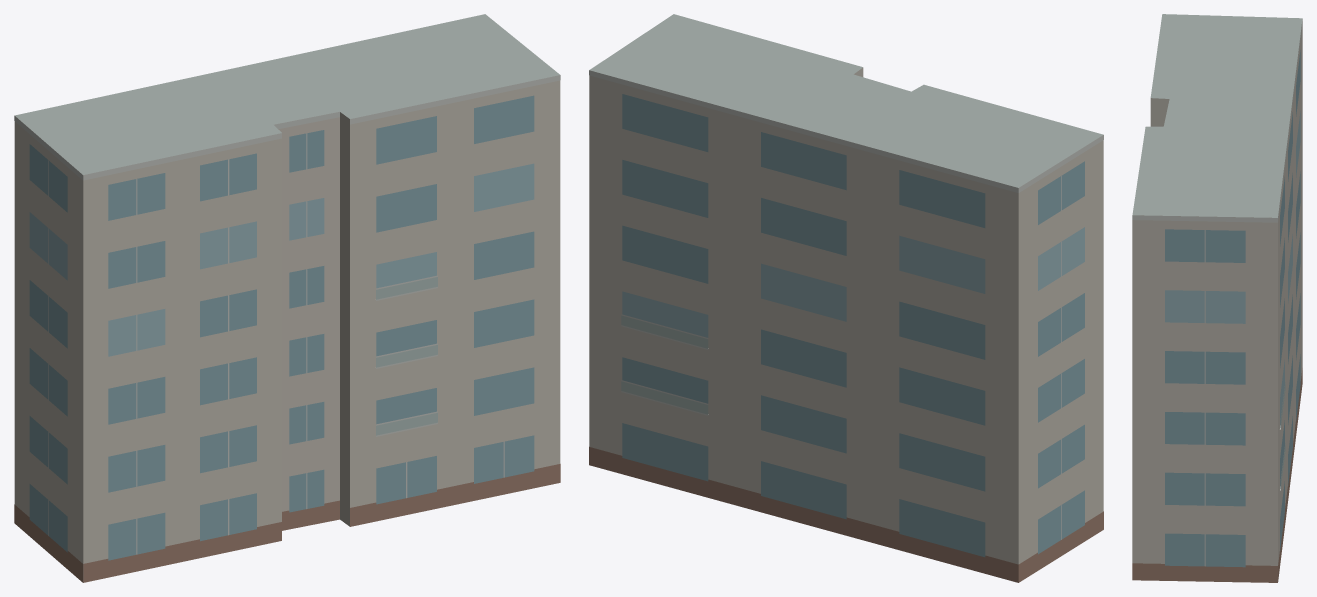
Rendered from survey-upis-32542733.glb.
3 renders of one model, left to right at view 1: azimuth 30°, elevation 25°; view 2: azimuth 150°, elevation 25°; view 3: azimuth 270°, elevation 25°, orthographic. The views are drawn at different scales.
Visible parts, largest first — view 1: survey-upis-32542733.tmp; view 2: survey-upis-32542733.tmp; view 3: survey-upis-32542733.tmp.
Part boxes in pixels (<box>): survey-upis-32542733.tmp: <box>14,14,560,582</box>; survey-upis-32542733.tmp: <box>589,14,1103,582</box>; survey-upis-32542733.tmp: <box>1132,14,1302,582</box>.
Bounding box in the file's own units: 21.93 × 18.3 × 7.74.
